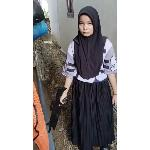Senapan: (45, 85, 71, 135)
